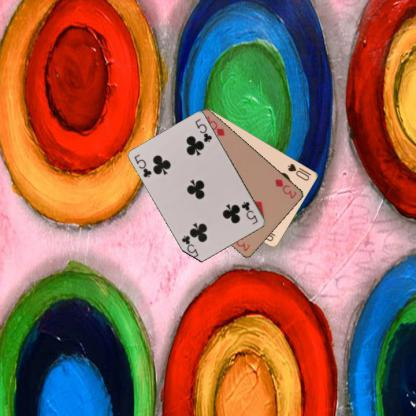10s: (286, 161, 312, 182)
3d: (273, 176, 298, 200)
5c: (132, 152, 153, 178), (240, 199, 260, 226)
